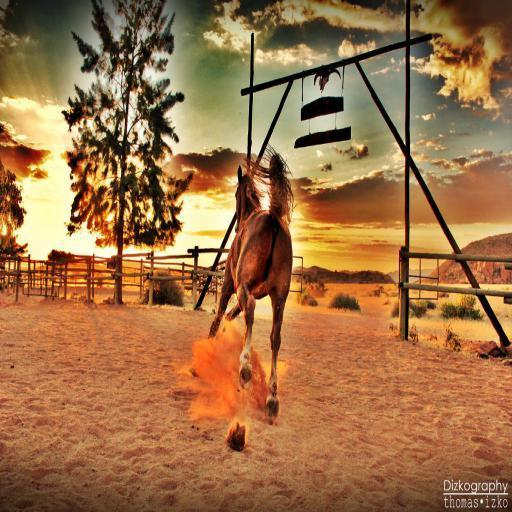horse: (206, 144, 302, 451)
